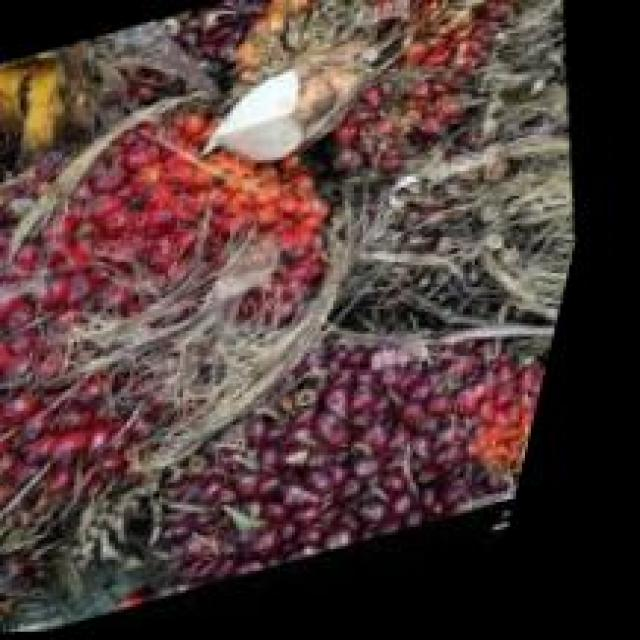Ripefruit: (0, 66, 439, 587), (121, 317, 575, 604), (180, 0, 557, 207)
